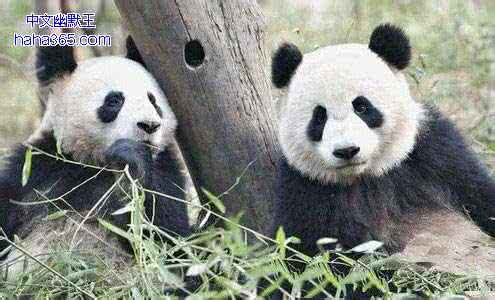panda: (253, 20, 495, 271), (1, 35, 208, 268)
